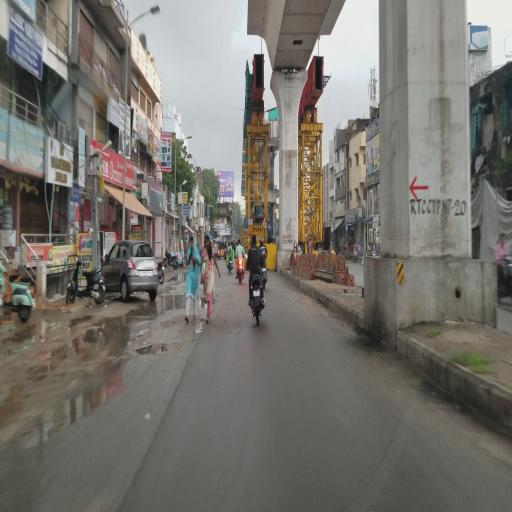street_light_0: (126, 4, 163, 38), (174, 119, 194, 149)
